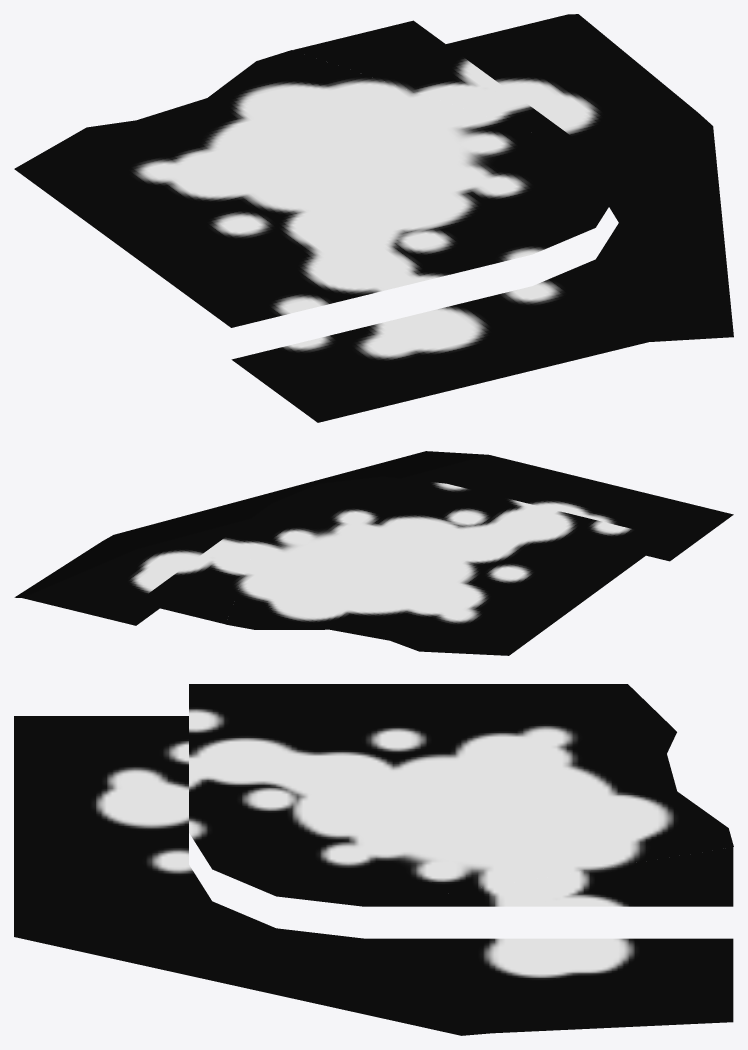
Rendered from pollution.dae.
3 renders of one model, top to bottom at view 1: azimuth 30°, elevation 25°; view 2: azimuth 150°, elevation 25°; view 3: azimuth 270°, elevation 25°, orthographic. The views are drawn at different scales.
Parts seen in each view (by area): view 1: m0; view 2: m0; view 3: m0.
Boxes of the visible parts, x1,y1,x2,y2 form: m0: (14, 14, 733, 422); m0: (14, 451, 733, 655); m0: (14, 684, 733, 1035).
Size of the model in its own units: 4096 by 300 by 4100.
2 materials, 2 textured.
